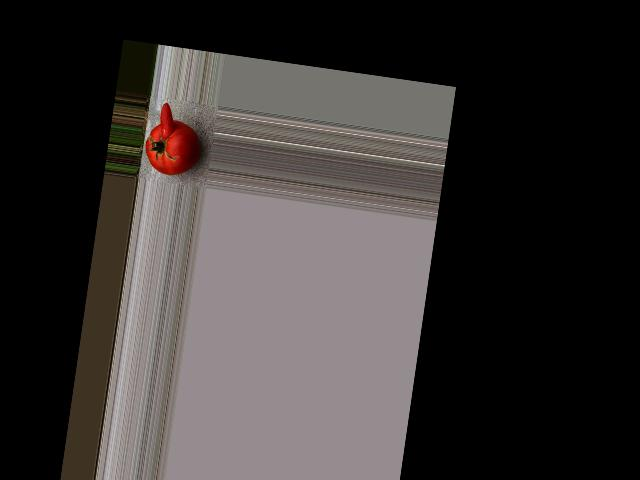tomato: (142, 116, 202, 179)
